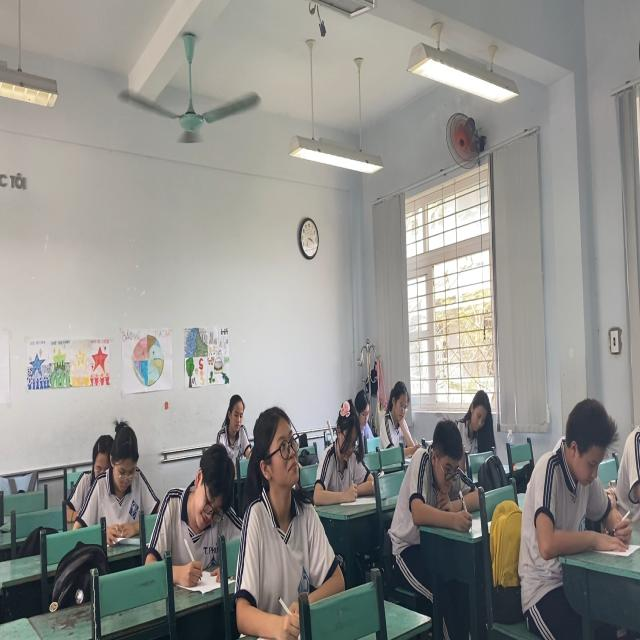not_cheating: (532, 400, 640, 587), (238, 407, 324, 607), (163, 451, 242, 566), (87, 411, 159, 535), (402, 422, 468, 522), (320, 400, 369, 497), (374, 366, 420, 452), (460, 393, 499, 462), (217, 389, 252, 449)
